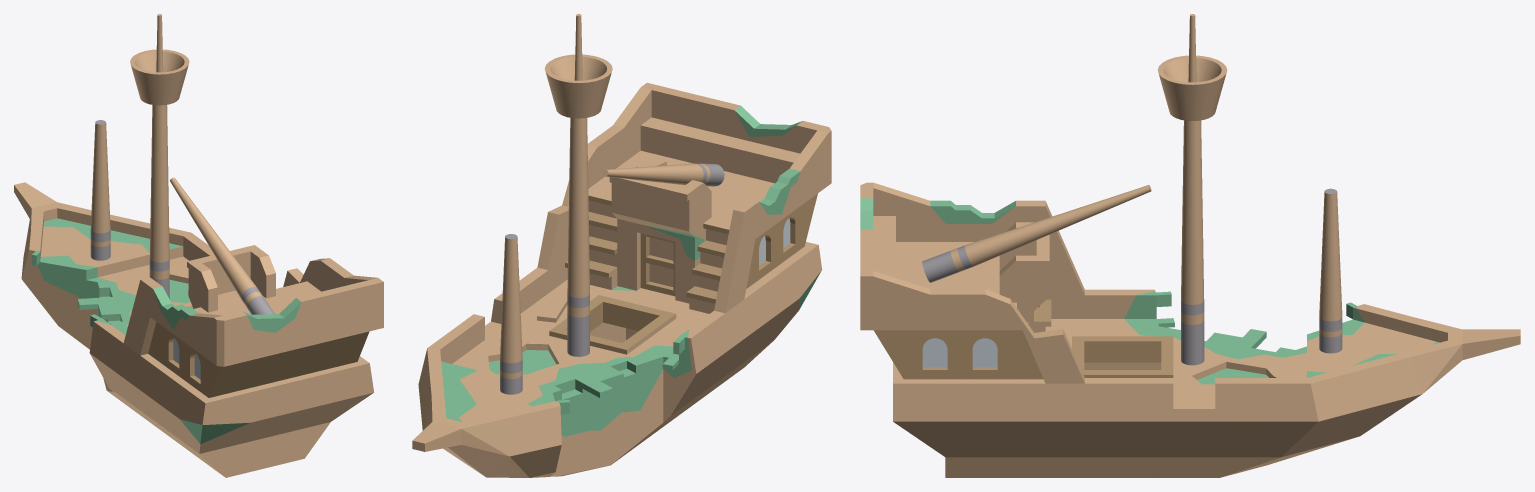
The model's file is ship_wreck.glb.
3 renders of one model, left to right at view 1: azimuth 30°, elevation 25°; view 2: azimuth 150°, elevation 25°; view 3: azimuth 270°, elevation 25°, orthographic. The views are drawn at different scales.
Parts seen in each view (by area): view 1: ship_wreck_8angles; view 2: ship_wreck_8angles; view 3: ship_wreck_8angles.
Boxes of the visible parts, x1=… form: ship_wreck_8angles: x1=14, y1=14, x2=383, y2=477; ship_wreck_8angles: x1=412, y1=14, x2=831, y2=477; ship_wreck_8angles: x1=860, y1=14, x2=1520, y2=477.
Size of the model in its own units: 2.85 by 5.92 by 8.05.
2 materials, 2 textured.
